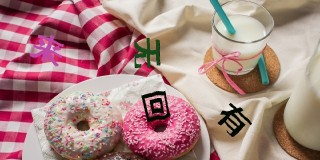回: (140, 89, 171, 124)
无: (132, 37, 162, 72)
有: (216, 102, 253, 139)
来: (30, 32, 62, 68)
